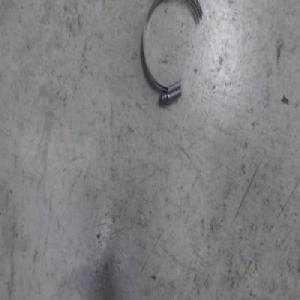AdjustableClamp: (140, 0, 203, 105)
